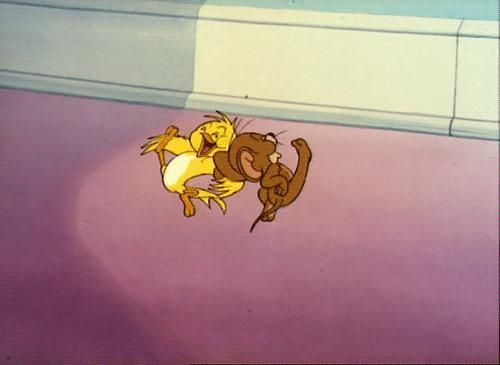jerry: (212, 129, 314, 234)
